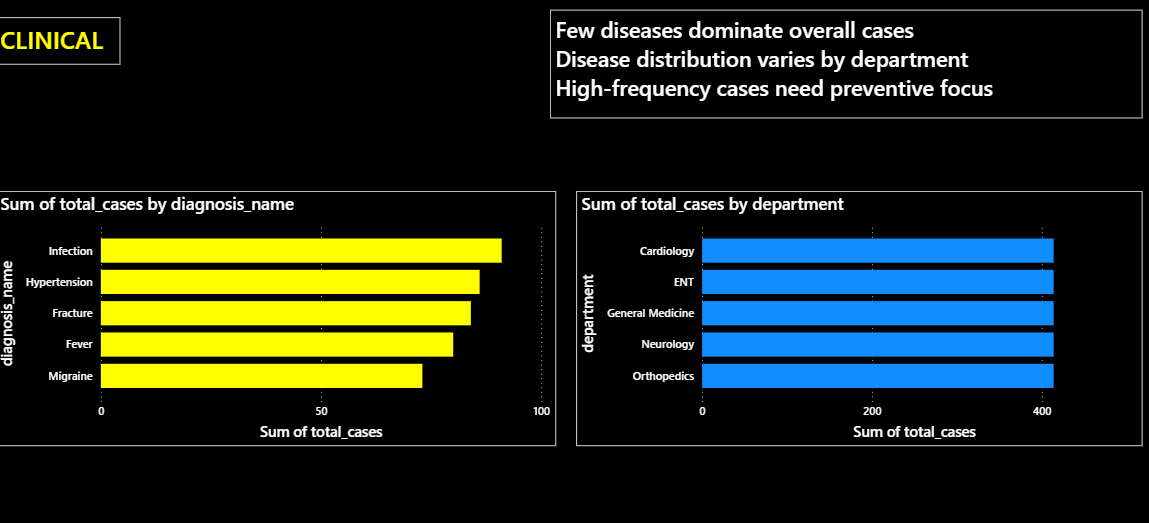

The page's visual inventory and layout, read from the dashboard file:
{"tool":"powerbi","page":{"name":"Page 3","canvas":[1280,720],"ordinal":2},"visuals":[{"type":"barChart","fields":{"Category":["Diagnosis_Analysis.diagnosis_name"],"Y":["Sum(Diagnosis_Analysis.total_cases)"]},"box":[11,219.6,616.1,279.9],"z":0},{"type":"barChart","fields":{"Category":["Department_Load.department"],"Y":["Sum(Diagnosis_Analysis.total_cases)"]},"box":[649.1,219.6,621.6,279.9],"z":1000},{"type":"textbox","box":[11,28.8,137.2,52.1],"z":1001},{"type":"textbox","box":[620.2,20.6,650.4,119.4],"z":1002}]}

Visuals, with their boxes on the page's 1280x720 design canvas (x1, y1, x2, y2). These are canvas units, not pixel positions in the 1149x523 screenshot, which may show the page scaled, cropped or inside an application window:
barChart - Diagnosis_Analysis.diagnosis_name x Sum(Diagnosis_Analysis.total_cases): [11,220,627,500]
barChart - Department_Load.department x Sum(Diagnosis_Analysis.total_cases): [649,220,1271,500]
textbox: [11,29,148,81]
textbox: [620,21,1271,140]
